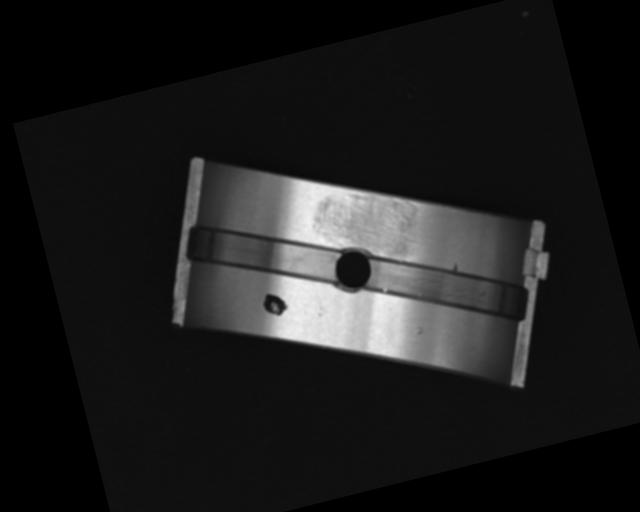blot: (259, 288, 290, 319)
bruise: (449, 261, 462, 276), (414, 324, 424, 336)
gap: (353, 220, 529, 358), (178, 183, 350, 319)
hole: (325, 241, 382, 299)
scratch: (303, 174, 428, 281)
